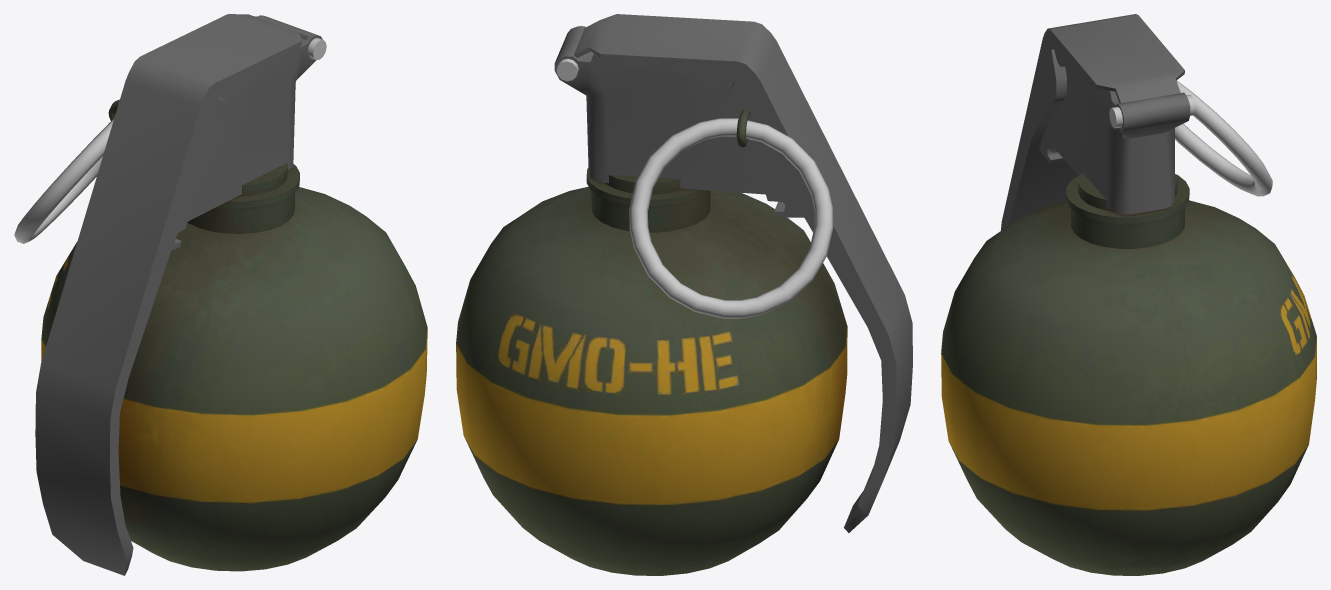
3 renders of one model, left to right at view 1: azimuth 30°, elevation 25°; view 2: azimuth 150°, elevation 25°; view 3: azimuth 270°, elevation 25°, orthographic. The views are drawn at different scales.
Visible parts, largest first — view 1: handGrenade; view 2: handGrenade; view 3: handGrenade.
Part boxes in pixels (<box>): handGrenade: <box>14,14,427,575</box>; handGrenade: <box>456,14,912,575</box>; handGrenade: <box>941,14,1316,575</box>.
Bounding box in the file's own units: 0.0945 × 0.1195 × 0.0816.
1 material, 1 textured.
